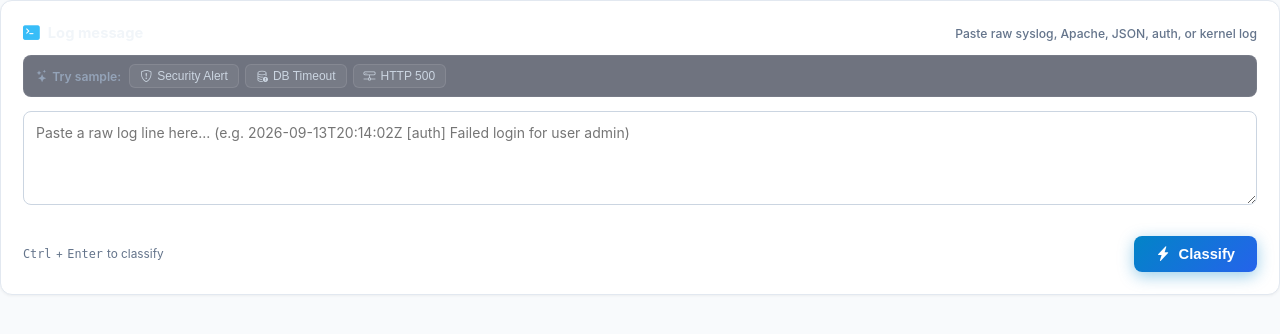
Test: LogInput › shows a validation error and does not submit when text is empty
The width and height of the screenshot is (1280, 334).
Click the button with test id "classify-button" at (1195, 254), box [1134,236,1257,272]
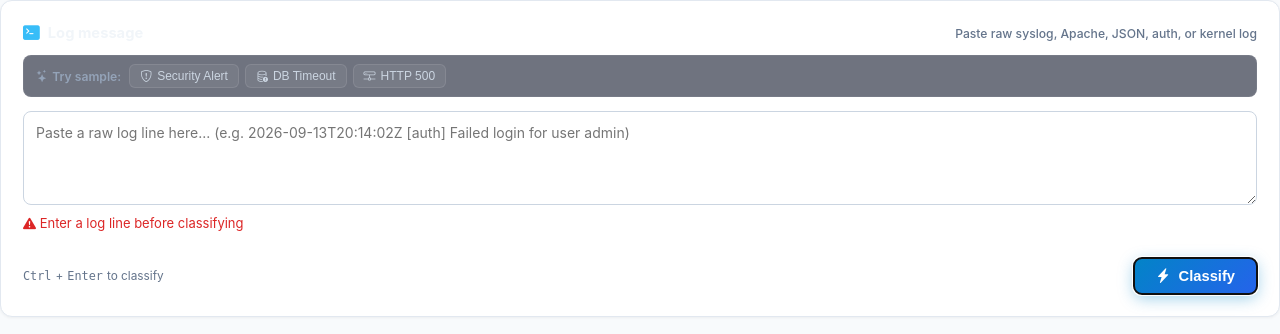
Expected: the element with test id "input-error" shows "Enter a log line", [40,215,244,231]
